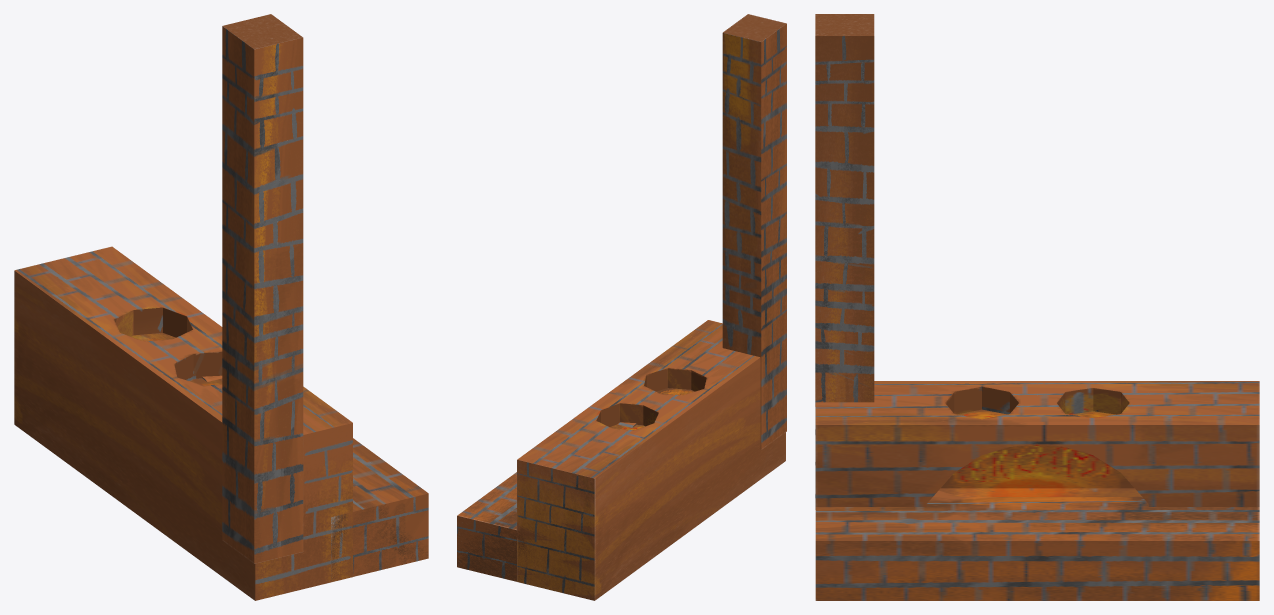
File: fogon pintado.fbx
3 views of the same model, side by side, from view 1: azimuth 30°, elevation 25°; view 2: azimuth 150°, elevation 25°; view 3: azimuth 270°, elevation 25° (orthographic). The views are drawn at different scales.
Visible parts, largest first — view 1: Cube.002, Cube.003, Cube.001; view 2: Cube.002, Cube.003, Cube.001; view 3: Cube.002, Cube.001, Cube.003.
Part boxes in pixels (box(x1,y1,x2,y2)): Cube.002: box(14, 246, 352, 600); Cube.003: box(222, 14, 303, 563); Cube.001: box(331, 438, 428, 580); Cube.002: box(517, 320, 785, 600); Cube.003: box(722, 14, 786, 449); Cube.001: box(457, 472, 532, 581); Cube.002: box(815, 381, 1259, 506); Cube.001: box(815, 497, 1259, 600); Cube.003: box(815, 14, 874, 509).
Size of the model in its own units: 357 by 1077 by 853.
Materials: 3 (3 with a texture image).
